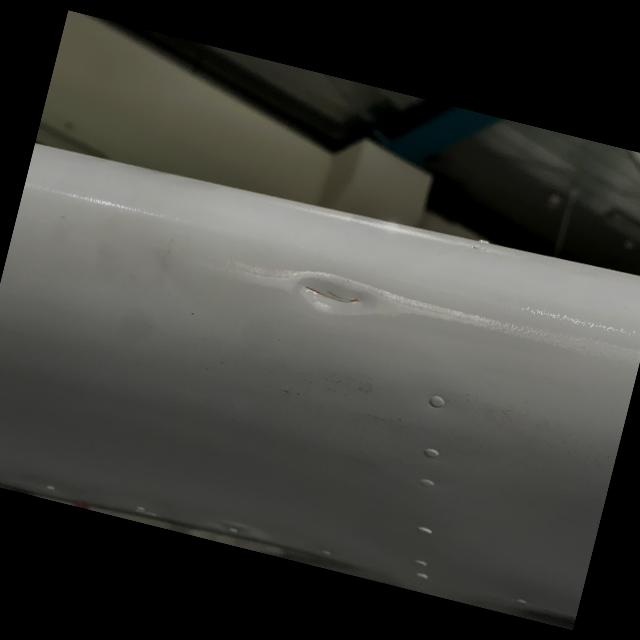dent: (268, 257, 400, 330)
